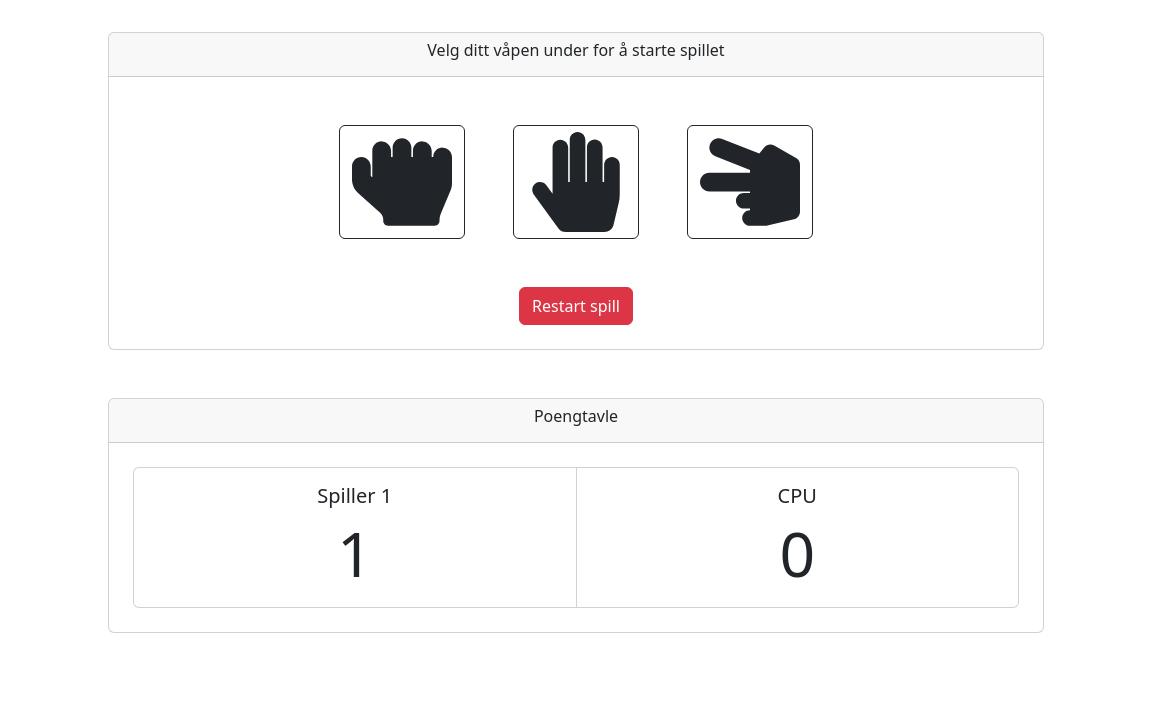
Test: Sjekk at "Motstander valgte" er synlig når vi velger et våpen › Sjekk at "Motstander valgte" er synlig hvis vi klikker stein
This screenshot has width=1152, height=720.
What coordinates should you click on to do the following:
click the button named "stein"
I would click on:
 (402, 182)
Its box is [339,125,465,239].
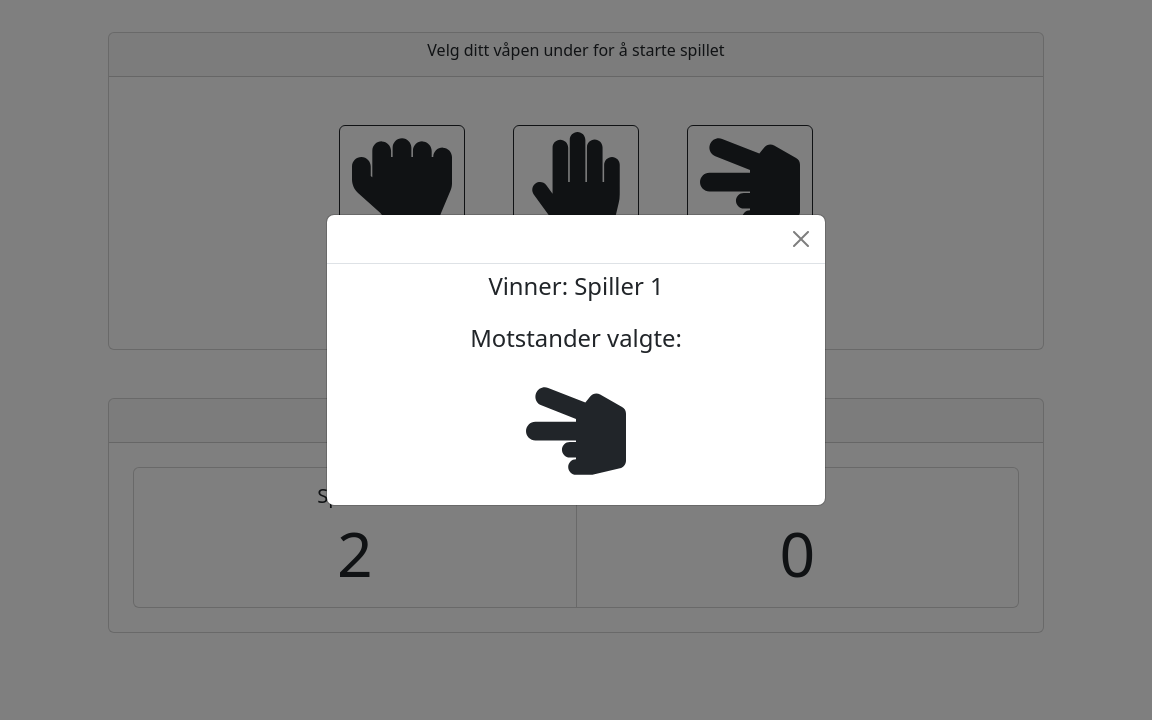
Expected: the heading "Motstander valgte:" is shown, [470,322,682,482]
